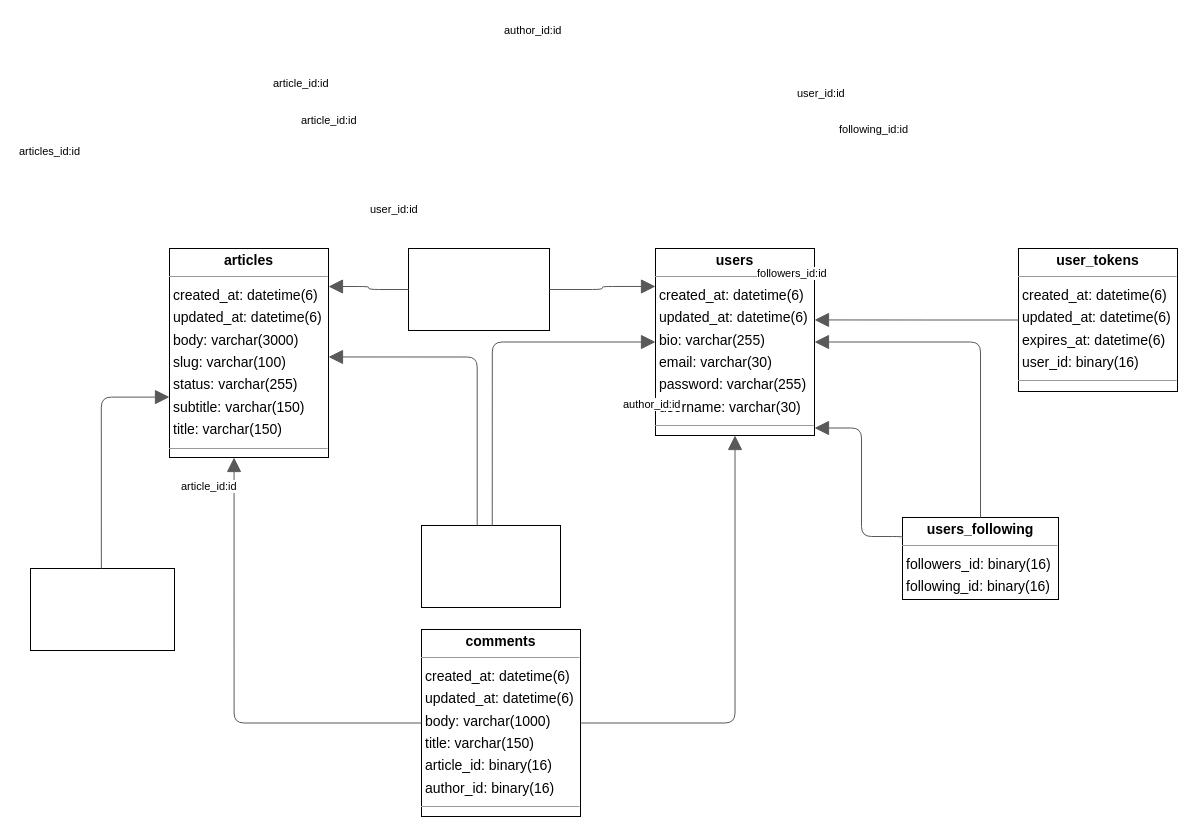
The diagram is 1195 pixels wide and 834 high, and some of its shapes have lost their labels. Here are the shapes that lost their labels. From the top down, the centre of each, then its label:
point 479,289: article_authors article_id: binary(16) author_id: binary(16)
point 490,566: article_likes article_id: binary(16) user_id: binary(16)
point 102,609: articles_tags articles_id: binary(16) tags: varchar(100)
